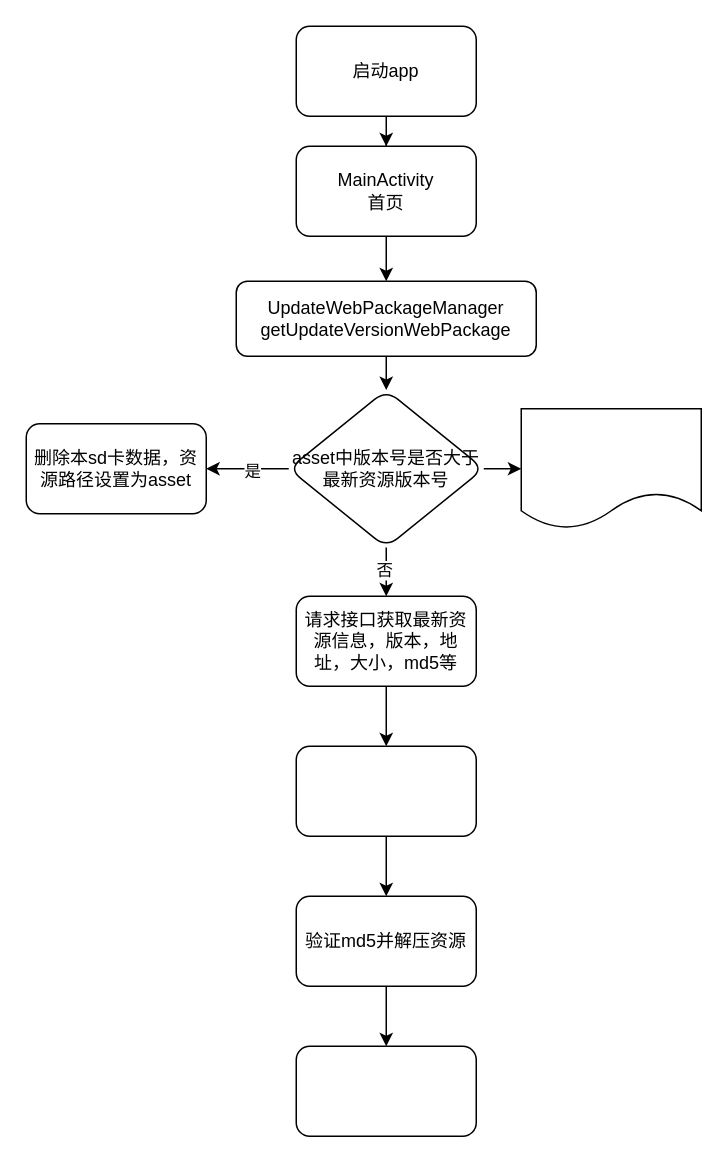
This 728x1163 diagram has some shape labels left out. The centre of each missing label's shape, as x and y in pixels:
"下载资源" goes at point 385,790.
"保存资源路径并删除压缩包" goes at point 385,1090.
"这里首次进入时，最新资源就是asset中资源，所以相等，也会走否的逻辑去下载" goes at point 610,468.
